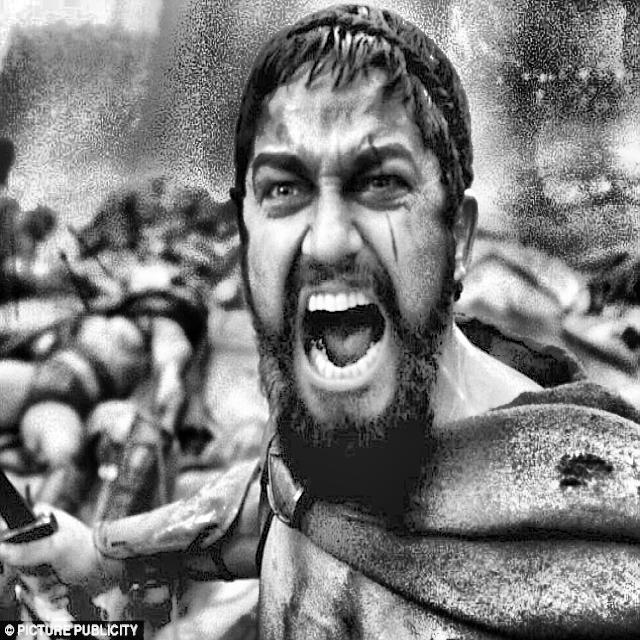angry: (214, 9, 486, 468)
